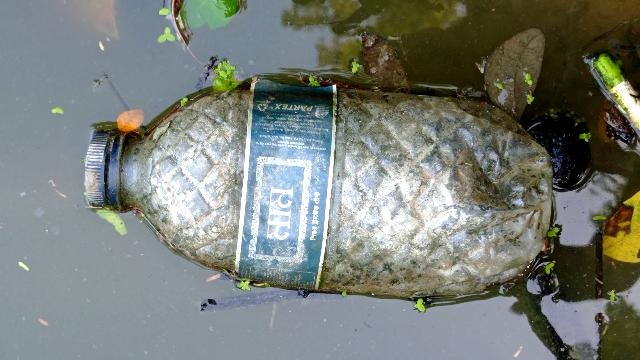bottle: (48, 64, 566, 337)
